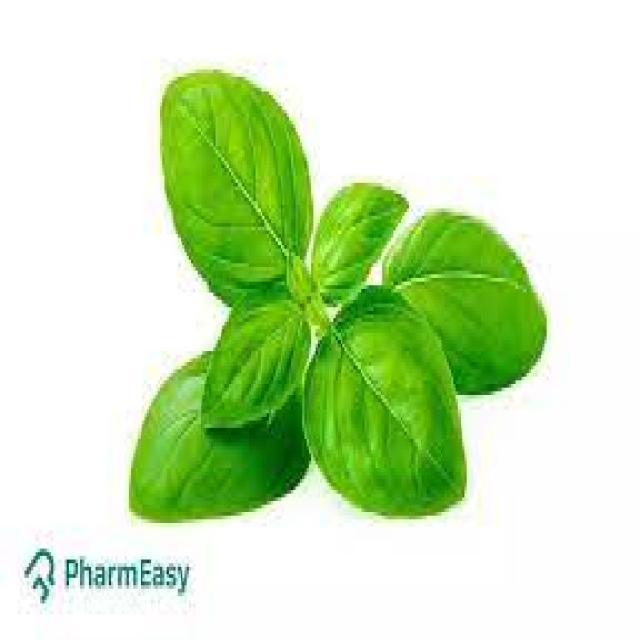healthy: (125, 64, 545, 519)
